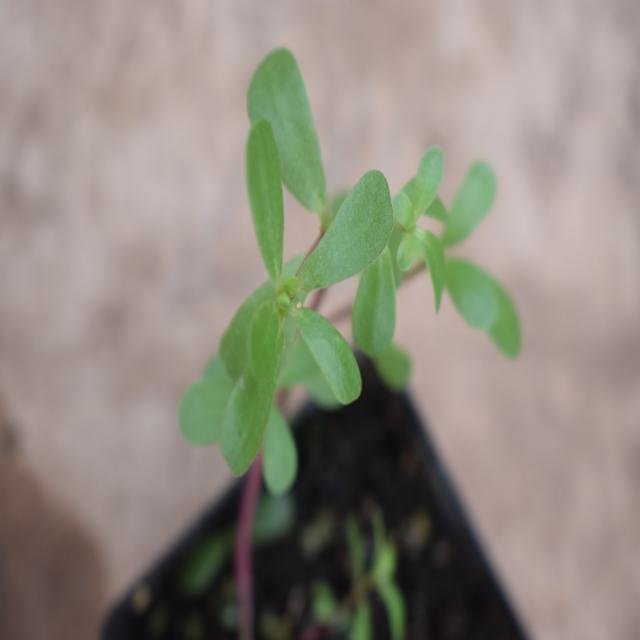purslane: (172, 36, 520, 464)
